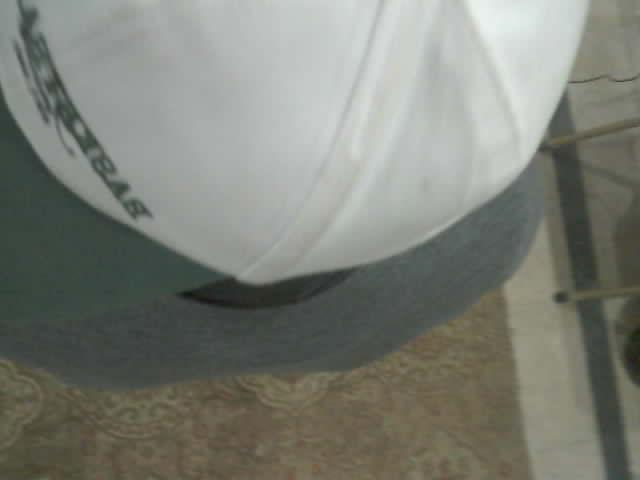cap: (0, 0, 436, 355)
